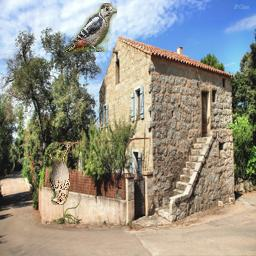Sparrow: (48, 145, 70, 206)
Woodpecker: (63, 4, 118, 53)
